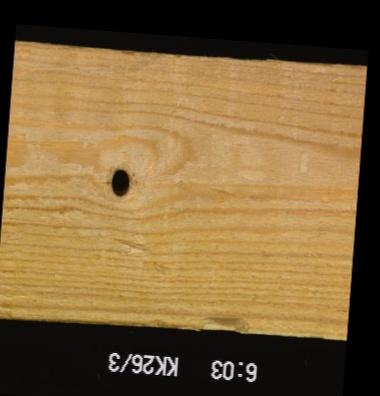wave: (194, 310, 253, 331)
